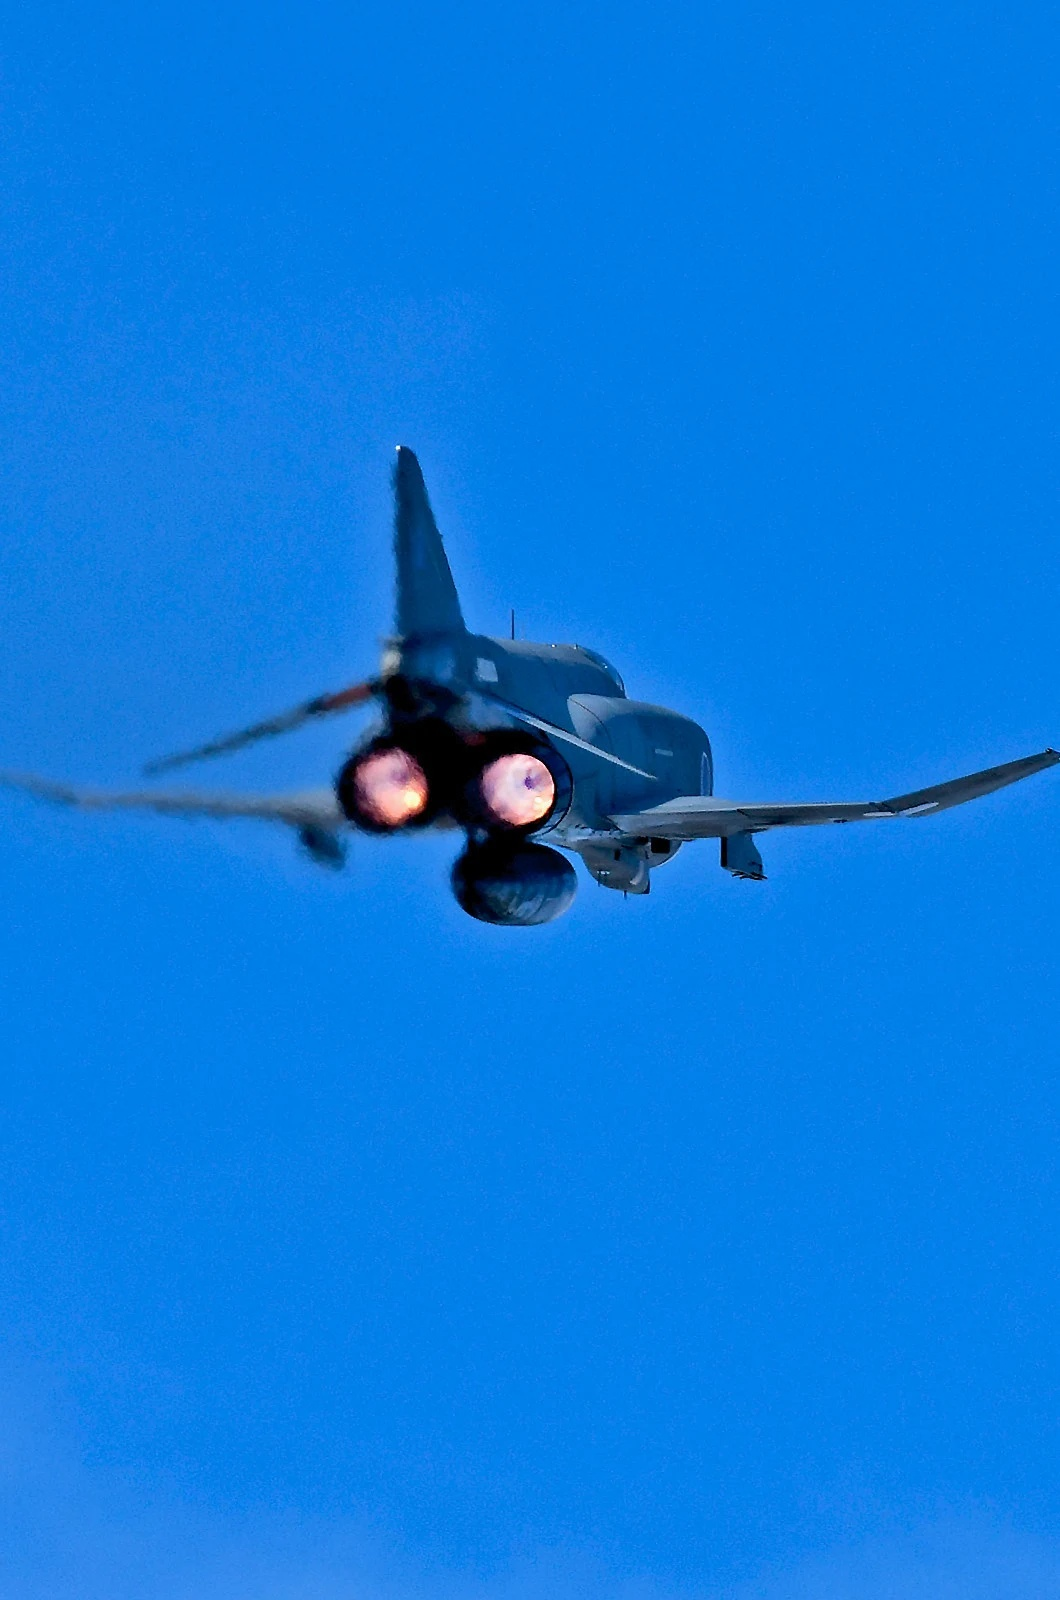F4: (1, 447, 1060, 929)
